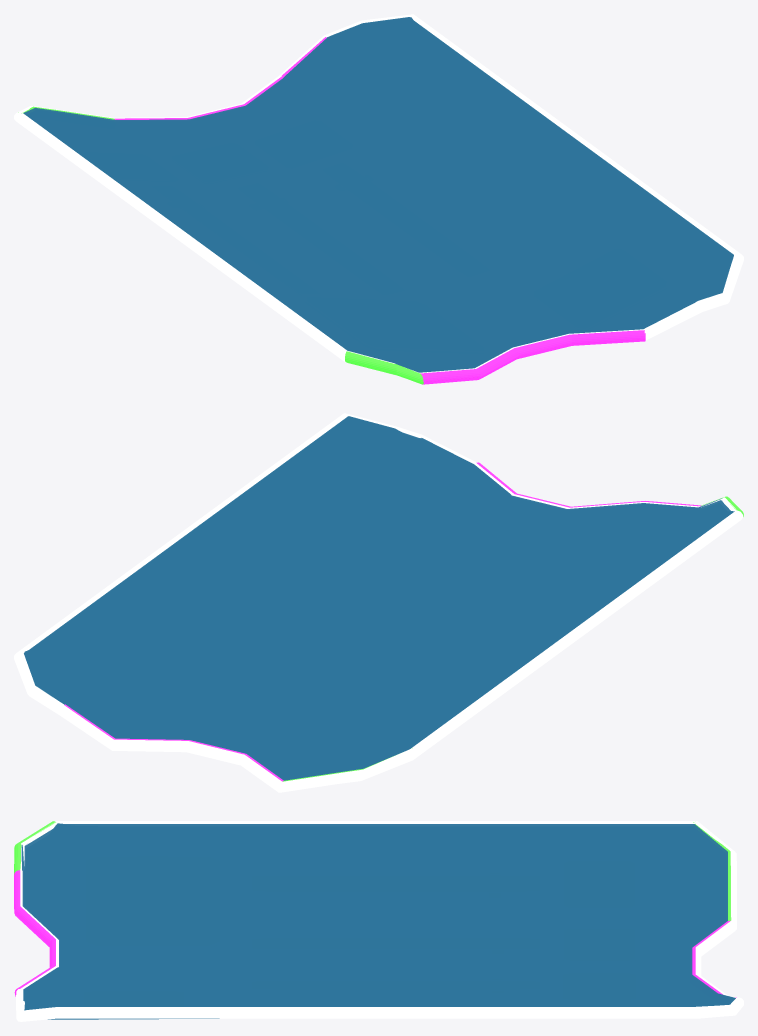
File: ColorMenuHSV.fbx
The picture shows the model from 3 angles, top to bottom: view 1: azimuth 30°, elevation 25°; view 2: azimuth 150°, elevation 25°; view 3: azimuth 270°, elevation 25°; orthographic projection. The views are drawn at different scales.
Visible parts, largest first — view 1: Panel_Base, Panel_Outline, Panel_OutlinePink, Panel_OutlineGreen; view 2: Panel_Base, Panel_Outline, Panel_OutlinePink; view 3: Panel_Base, Panel_Outline, Panel_OutlinePink, Panel_OutlineGreen.
Boxes of the visible parts, box(x1,y1,x2,y2) form: Panel_Base: box(23, 17, 733, 372); Panel_Outline: box(14, 14, 743, 373); Panel_OutlinePink: box(114, 37, 645, 384); Panel_OutlineGreen: box(18, 106, 423, 384); Panel_Base: box(24, 416, 734, 780); Panel_Outline: box(14, 413, 742, 792); Panel_OutlinePink: box(64, 462, 701, 781); Panel_Base: box(21, 823, 735, 1019); Panel_Outline: box(16, 821, 743, 1021); Panel_OutlinePink: box(14, 870, 736, 997); Panel_OutlineGreen: box(14, 821, 731, 920).
Size of the model in its own units: 3.56 by 0.5069 by 5.72.
